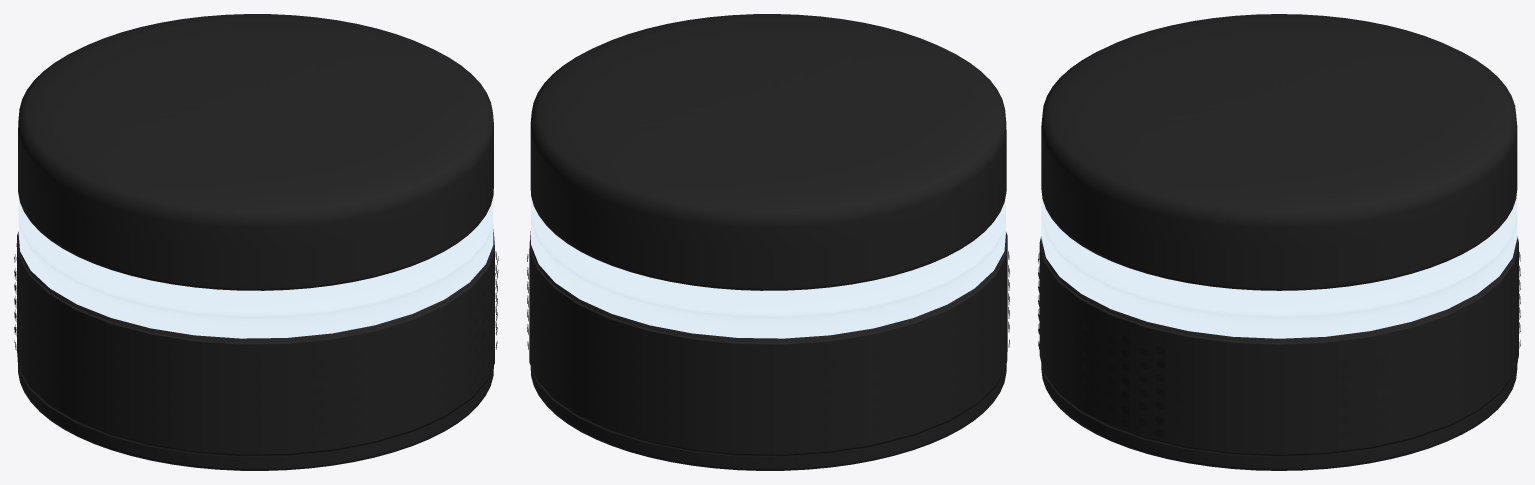
The model's file is SmartSpeaker.glb.
3 renders of one model, left to right at view 1: azimuth 30°, elevation 25°; view 2: azimuth 150°, elevation 25°; view 3: azimuth 270°, elevation 25°, orthographic.
Visible parts, largest first — view 1: Cylinder.008, Cylinder.001, Cylinder.007, Cylinder.002; view 2: Cylinder.008, Cylinder.001, Cylinder.007, Cylinder.002; view 3: Cylinder.008, Cylinder.001, Cylinder.007, Cylinder.002.
Boxes of the visible parts, box(x1,y1,x2,y2) form: Cylinder.008: box(18, 14, 493, 290); Cylinder.001: box(17, 229, 494, 456); Cylinder.007: box(18, 196, 493, 338); Cylinder.002: box(18, 242, 493, 470); Cylinder.008: box(530, 14, 1006, 290); Cylinder.001: box(529, 231, 1007, 456); Cylinder.007: box(531, 196, 1005, 338); Cylinder.002: box(530, 243, 1006, 470); Cylinder.008: box(1041, 14, 1517, 290); Cylinder.001: box(1039, 236, 1518, 457); Cylinder.007: box(1041, 193, 1517, 338); Cylinder.002: box(1041, 243, 1517, 470).
Size of the model in its own units: 0.406 by 0.2496 by 0.406.
